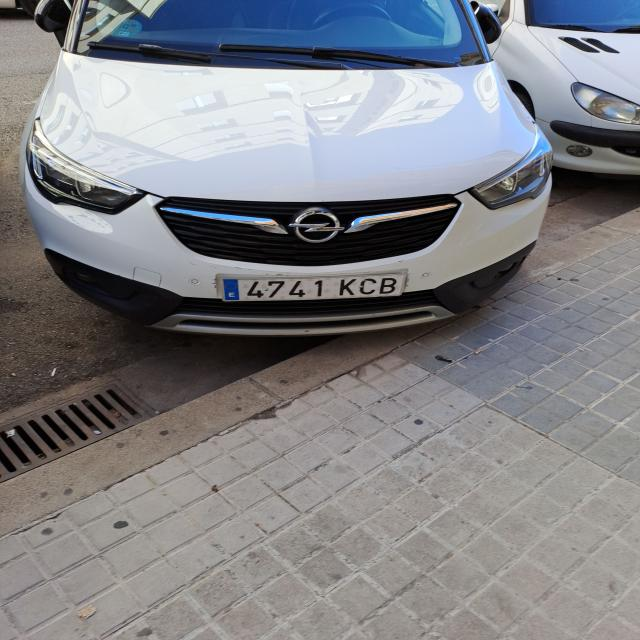license_plate-34Td: (217, 272, 406, 301)
